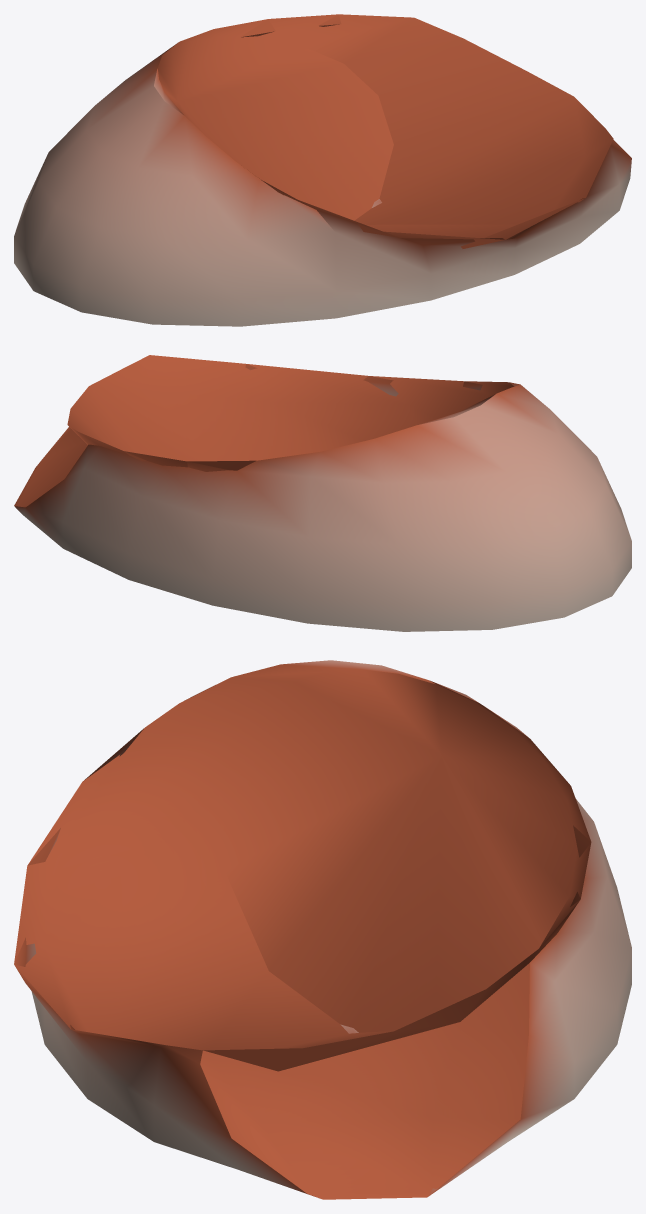
File: dimsum-hargow-s2.glb
The picture shows the model from 3 angles, top to bottom: view 1: azimuth 30°, elevation 25°; view 2: azimuth 150°, elevation 25°; view 3: azimuth 270°, elevation 25°; orthographic projection. The views are drawn at different scales.
Visible parts, largest first — view 1: food__food; view 2: food__food; view 3: food__food.
Part boxes in pixels (x1,y1,x2,y2): food__food: (14,14,631,326); food__food: (14,355,631,631); food__food: (14,660,631,1199).
Bounding box in the file's own units: 0.0514 × 0.0153 × 0.0345.
